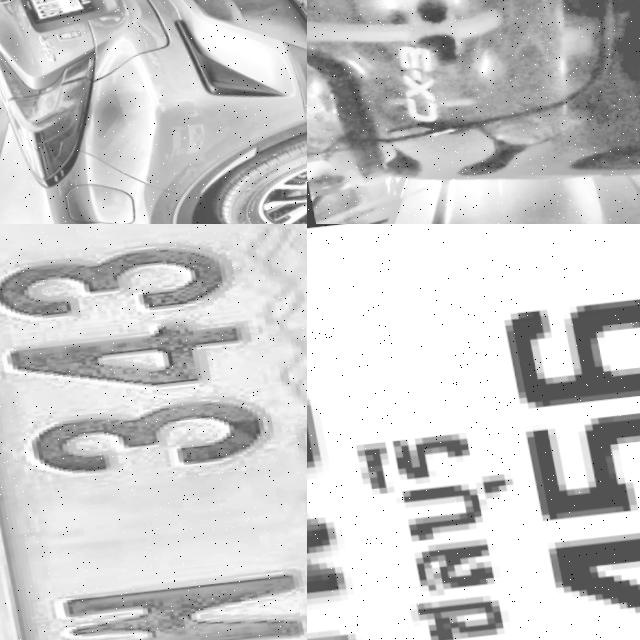license-plate: (307, 224, 640, 640), (0, 224, 307, 640), (16, 0, 95, 23)
